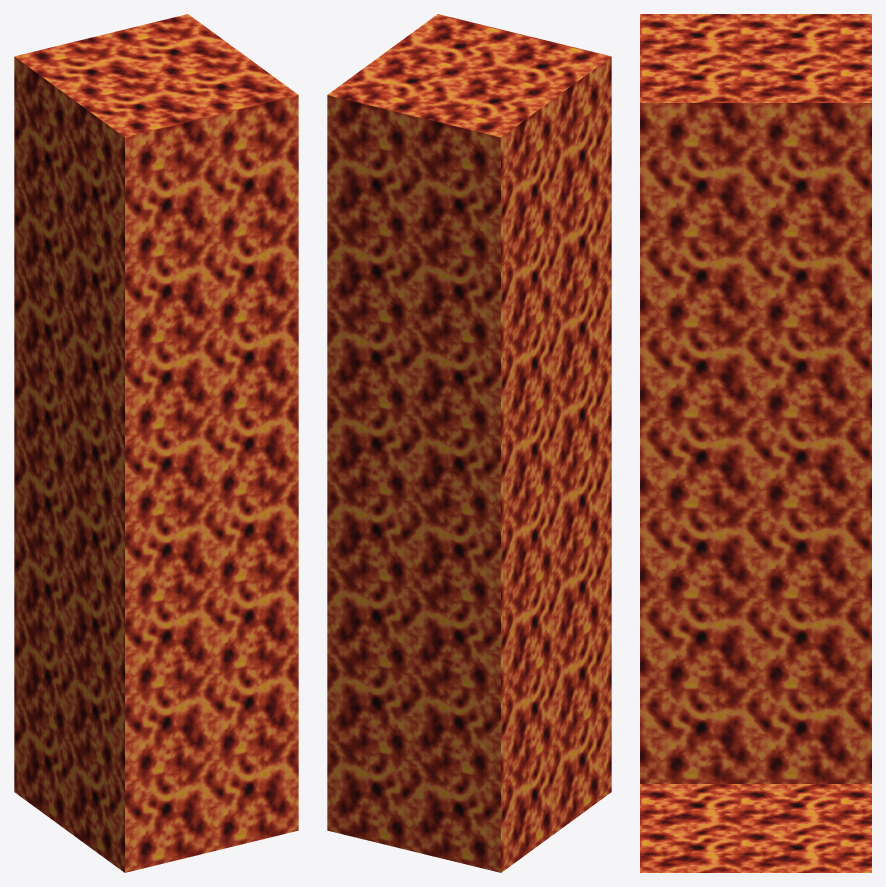
The model's file is lavaPrisoner.obj.
The picture shows the model from 3 angles, left to right: view 1: azimuth 30°, elevation 25°; view 2: azimuth 150°, elevation 25°; view 3: azimuth 270°, elevation 25°; orthographic projection. The views are drawn at different scales.
Visible parts, largest first — view 1: lavaPrisoner; view 2: lavaPrisoner; view 3: lavaPrisoner.
Boxes of the visible parts, <box> form: lavaPrisoner: <box>14,14,298,872</box>; lavaPrisoner: <box>327,14,611,872</box>; lavaPrisoner: <box>640,14,871,872</box>.
Size of the model in its own units: 10.52 by 42.51 by 11.59.
1 material, 1 textured.
